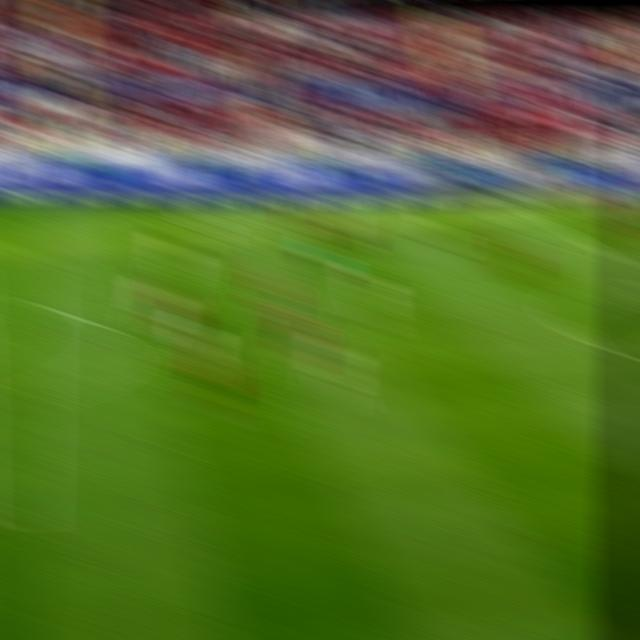bigarea_bottom_inner: (8, 501, 53, 530)
bigarea_top_inner: (22, 244, 55, 265)
bottom_arc_area_intersection: (15, 380, 53, 411)
midline_top_intersection: (515, 200, 546, 220)
top_arc_area_intersection: (21, 296, 55, 318)
